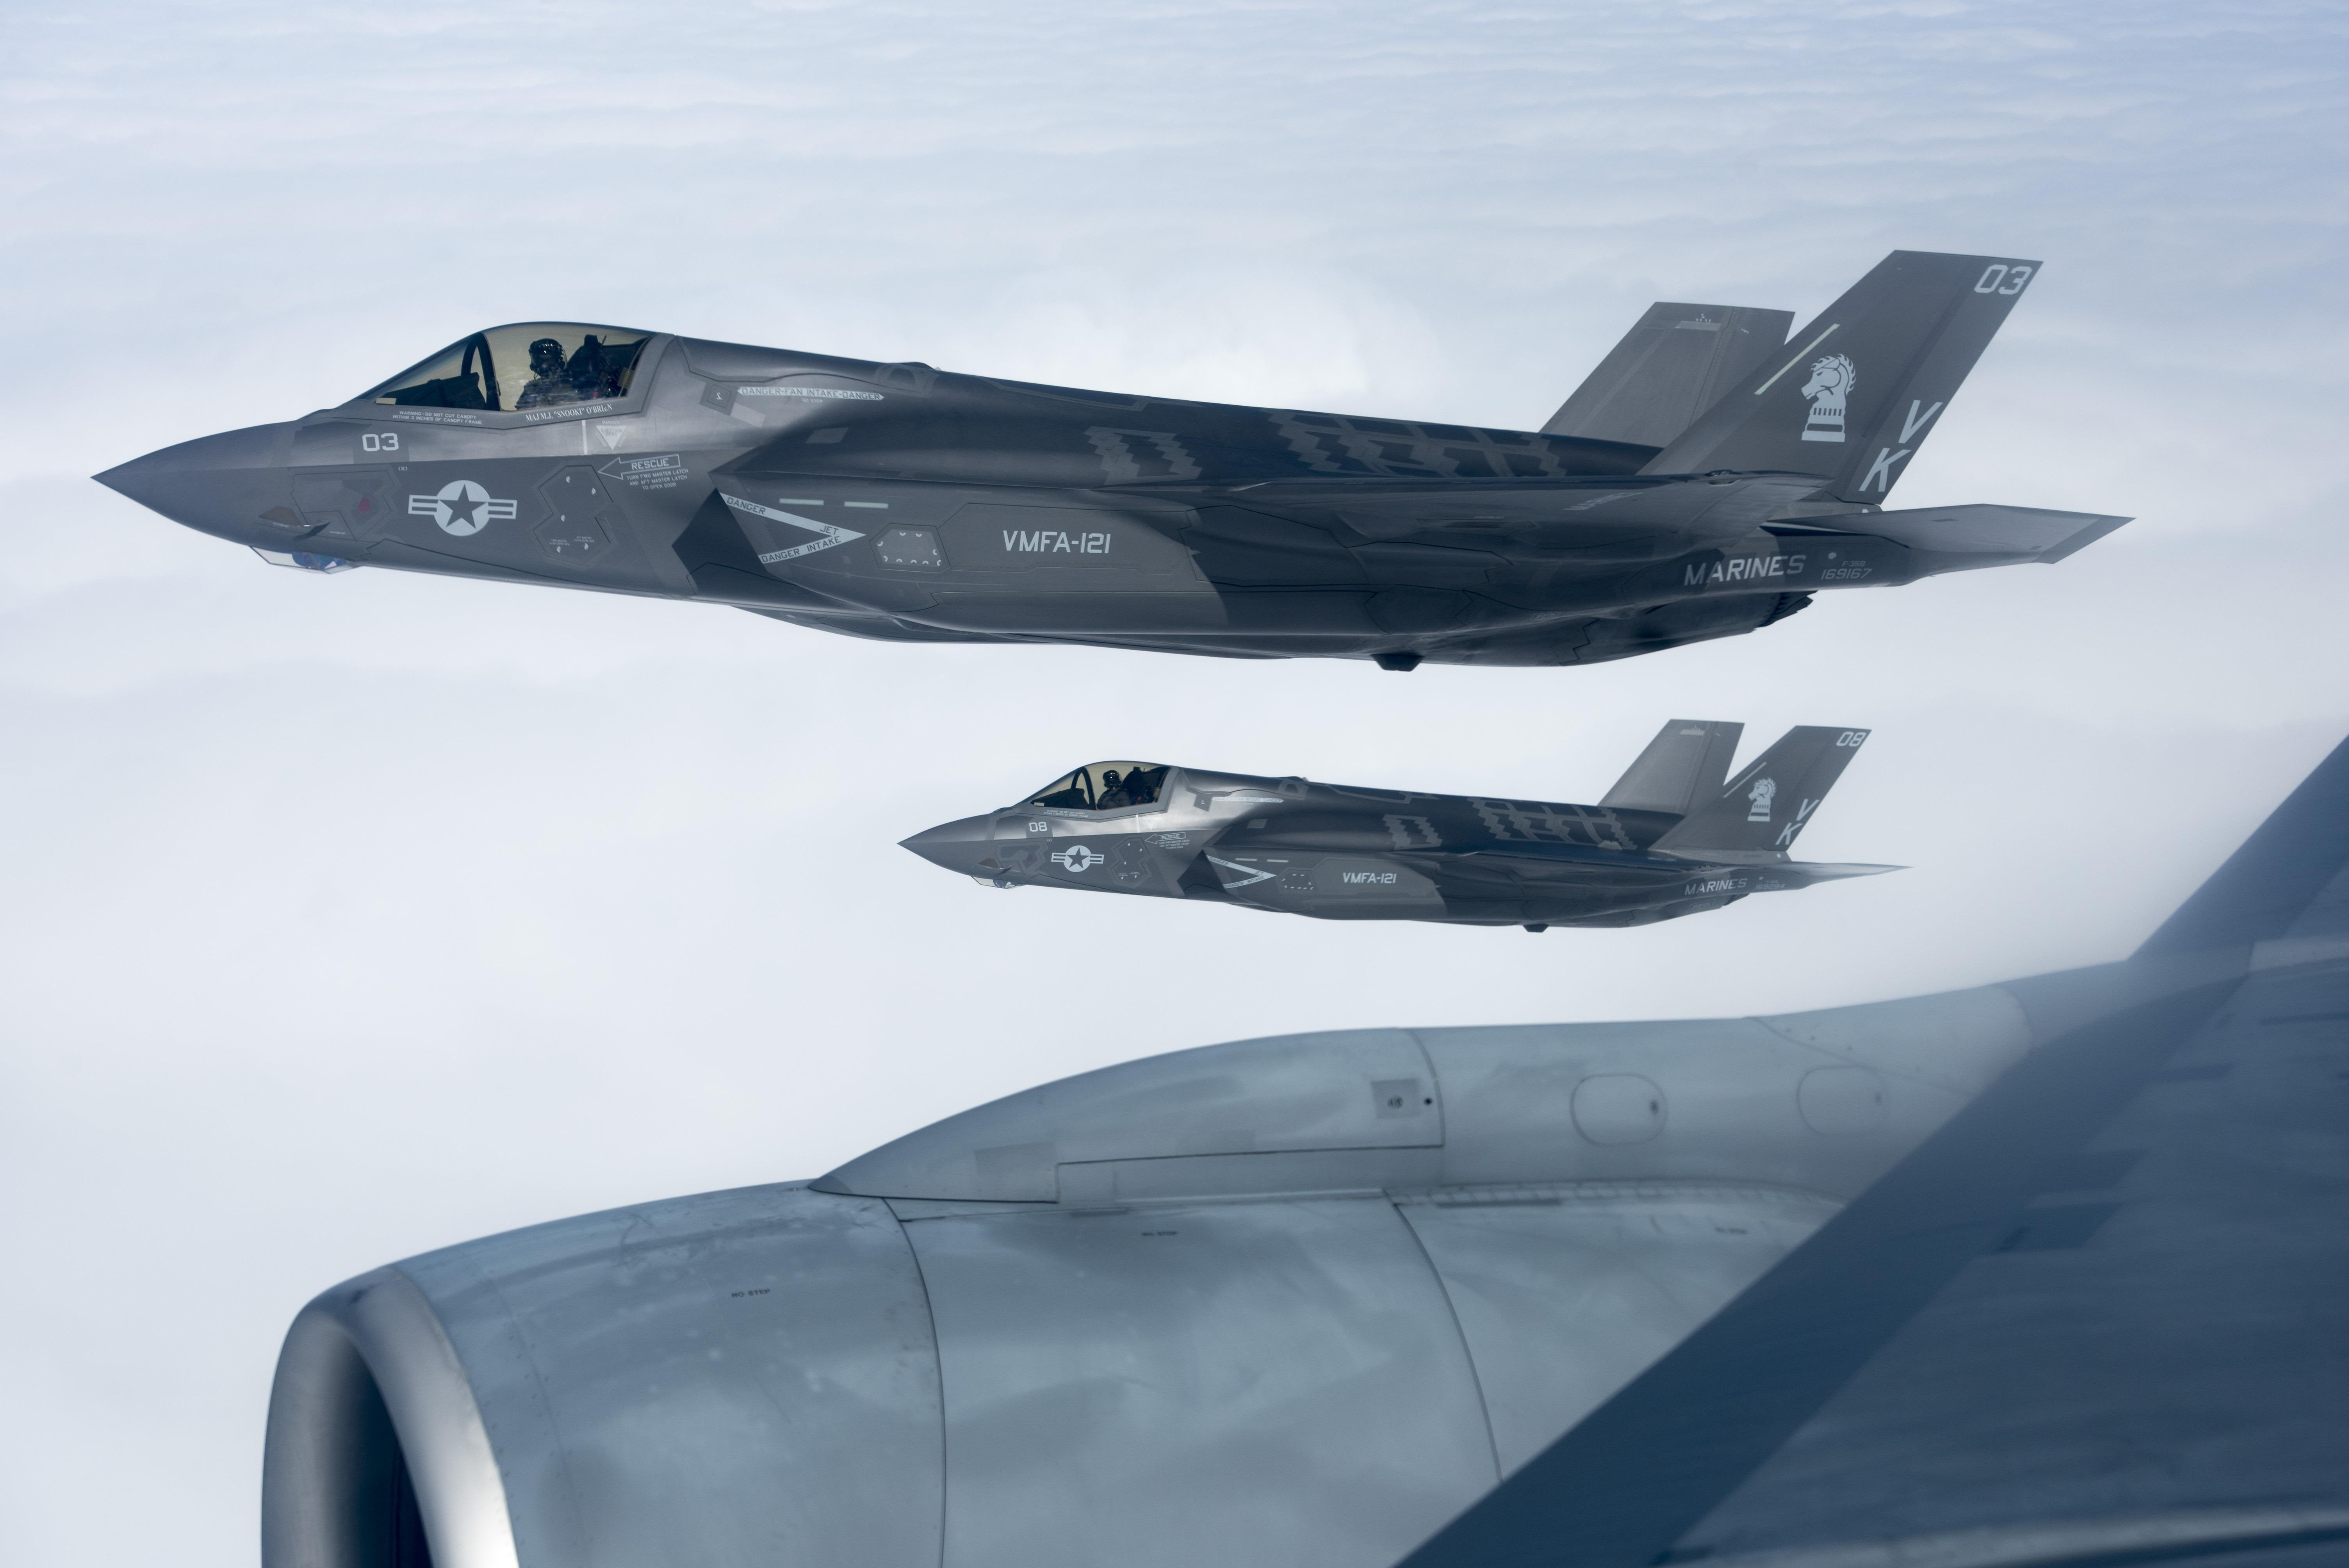airplane: (81, 217, 2142, 675), (889, 702, 1906, 945)
